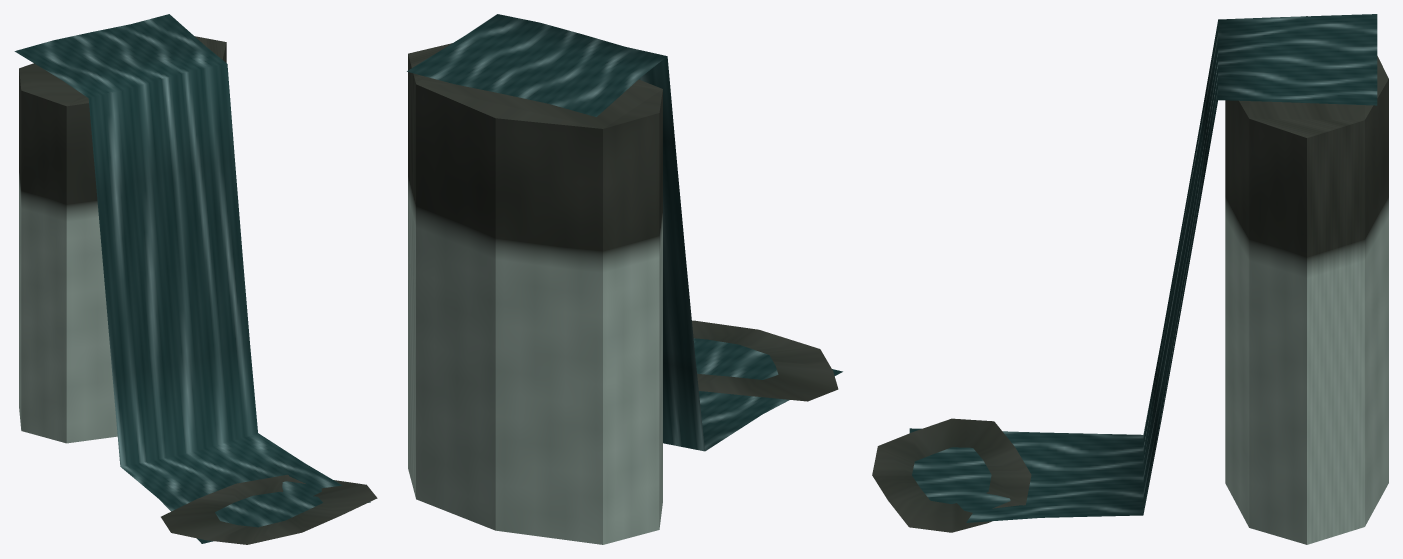
Rendered from fall-wide-lod1.glb.
The picture shows the model from 3 angles, left to right: view 1: azimuth 30°, elevation 25°; view 2: azimuth 150°, elevation 25°; view 3: azimuth 270°, elevation 25°; orthographic projection. The views are drawn at different scales.
Bounding box in the file's own units: 0.6087 × 1 × 1.11.
1 material, 1 textured.
